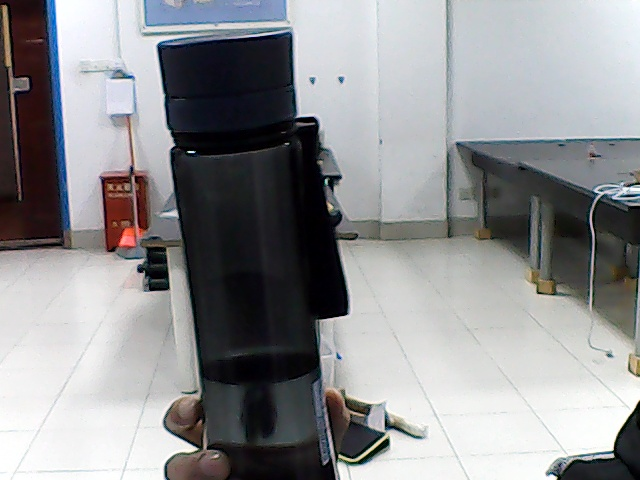cup: (203, 40, 308, 444)
